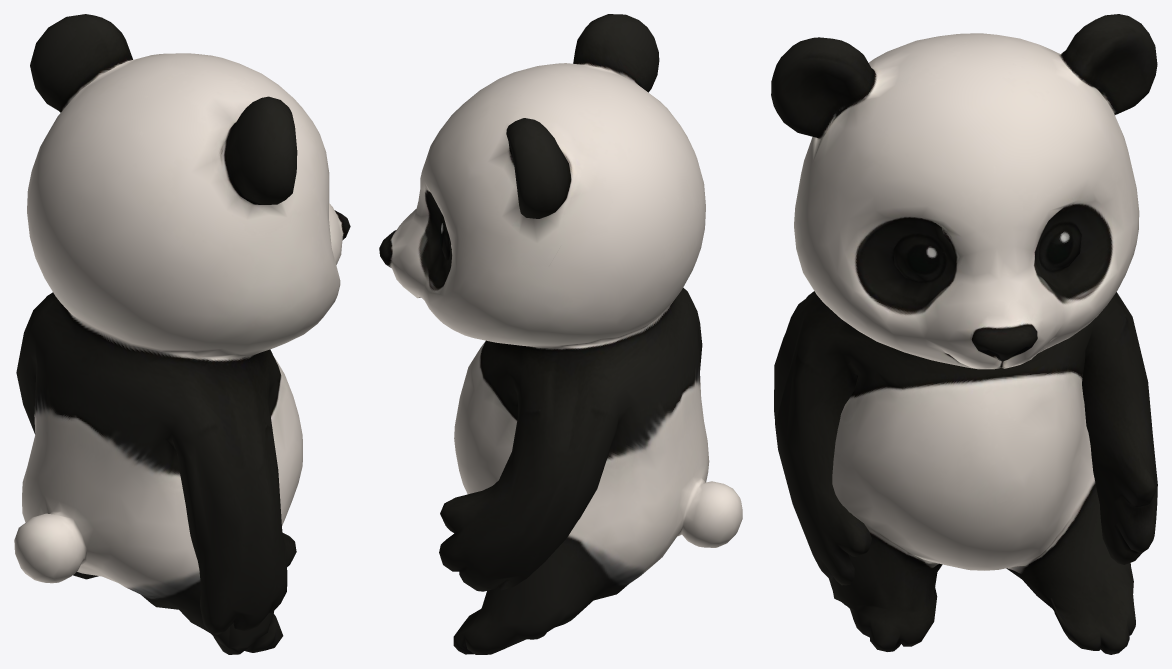
The model's file is panda_texture.obj.
3 views of the same model, side by side, from view 1: azimuth 30°, elevation 25°; view 2: azimuth 150°, elevation 25°; view 3: azimuth 270°, elevation 25° (orthographic). The views are drawn at different scales.
Visible parts, largest first — view 1: panda_texture; view 2: panda_texture; view 3: panda_texture.
Part boxes in pixels (x1,y1,x2,y2): panda_texture: (14, 14, 350, 654); panda_texture: (379, 14, 742, 654); panda_texture: (771, 14, 1157, 654).
Size of the model in its own units: 0.6059 by 0.9621 by 0.5573.
Materials: 1 (1 with a texture image).
